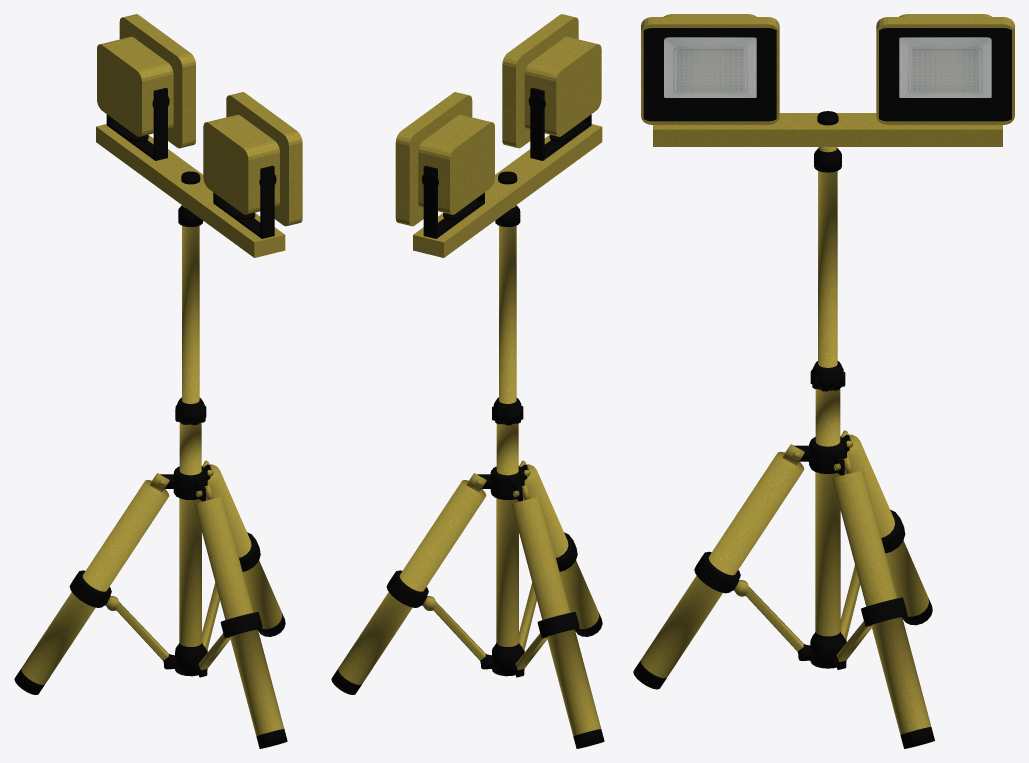
The model's file is spotlight.fbx.
The picture shows the model from 3 angles, left to right: view 1: azimuth 30°, elevation 25°; view 2: azimuth 150°, elevation 25°; view 3: azimuth 270°, elevation 25°; orthographic projection. The views are drawn at different scales.
Parts seen in each view (by area): view 1: Spotlight; view 2: Spotlight; view 3: Spotlight.
Boxes of the visible parts, box(x1,y1,x2,y2) form: Spotlight: box(14, 14, 302, 748); Spotlight: box(331, 14, 604, 748); Spotlight: box(633, 14, 1014, 748).
Size of the model in its own units: 213 by 464 by 237.
Materials: 3 (2 with a texture image).
